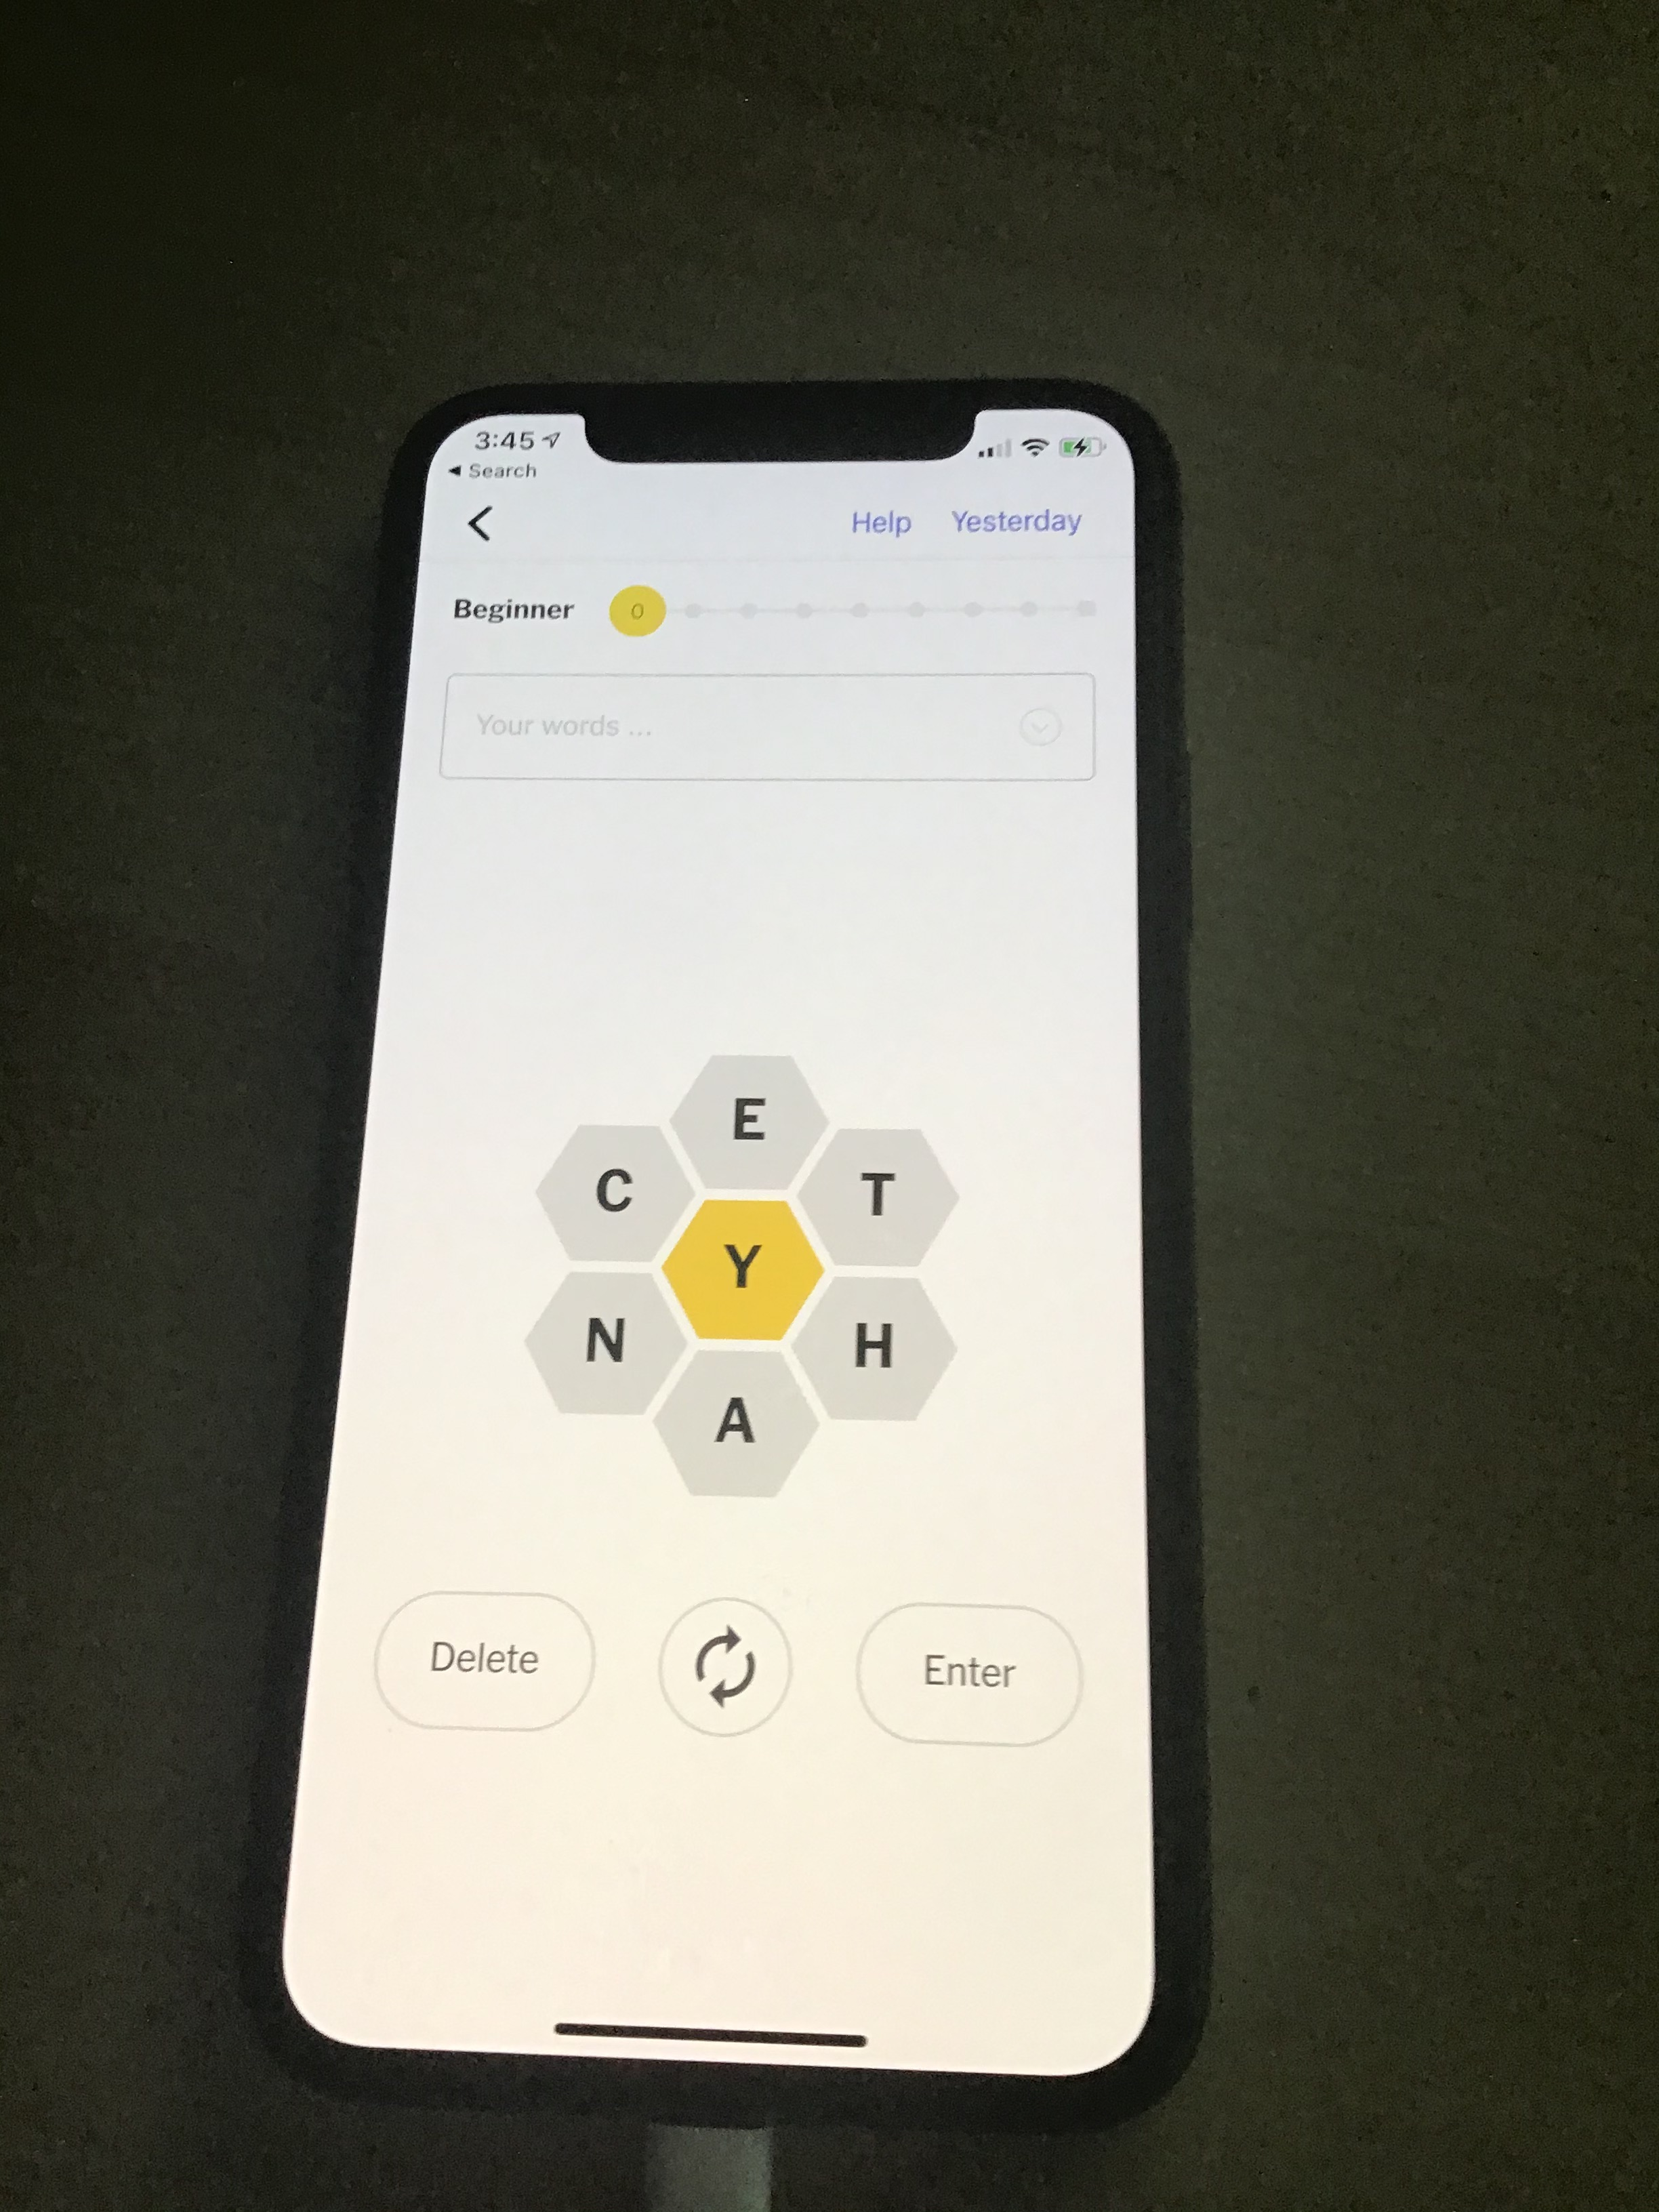Board: (512, 1036, 997, 1510)
